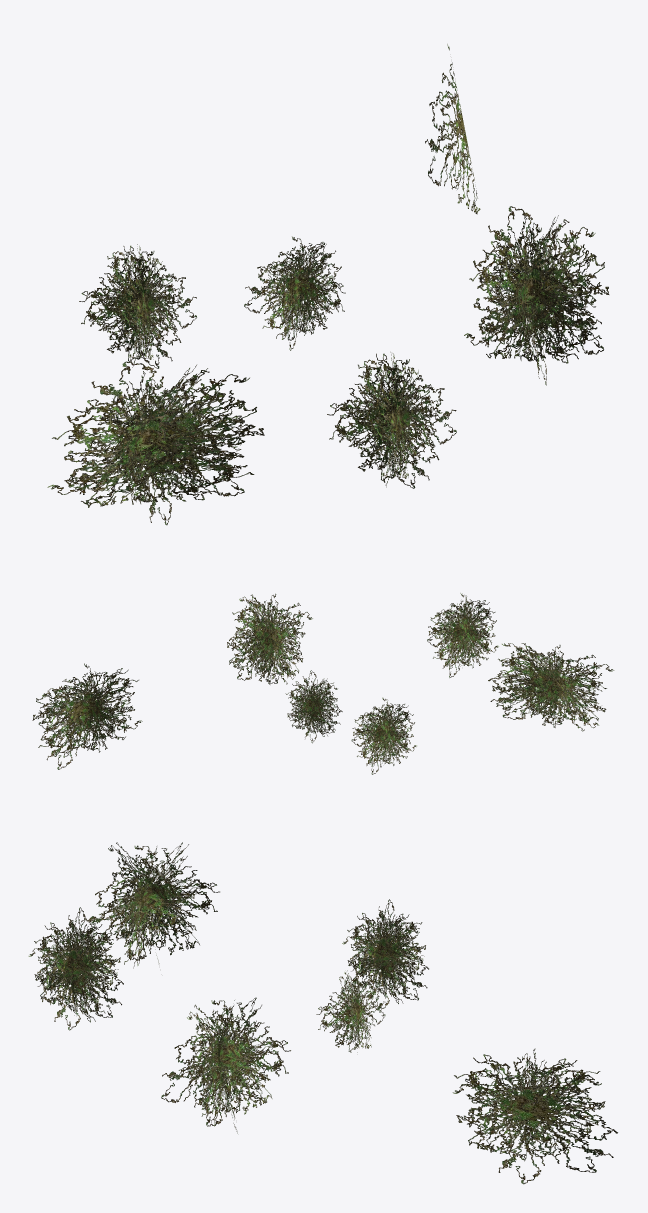
File: ADDON_CANYONPLANT_BUSHES_01_120P.glb
The picture shows the model from 3 angles, top to bottom: view 1: azimuth 30°, elevation 25°; view 2: azimuth 150°, elevation 25°; view 3: azimuth 270°, elevation 25°; orthographic projection. The views are drawn at different scales.
Visible parts, largest first — view 1: Mesh; view 2: Mesh; view 3: Mesh.
Part boxes in pixels (x1,y1,x2,y2): Mesh: (47,44,609,525); Mesh: (32,593,614,774); Mesh: (28,842,617,1184).
Size of the model in its own units: 10.24 by 2.67 by 9.05.
Materials: 1 (1 with a texture image).
